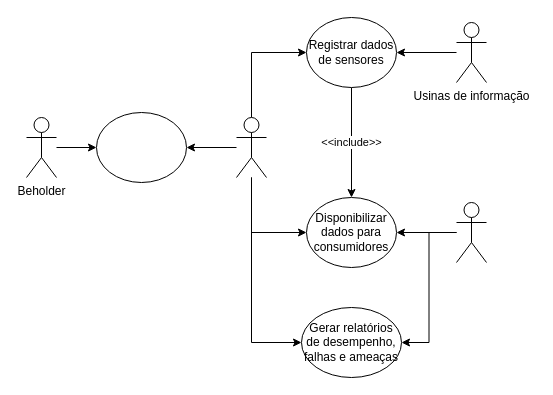
This 553x395 diagram has some shape labels left out. The shapes that lost their labels are listed below. From the top down, each one's centre as x and y in pixels, then its label:
At (x=141, y=147): "Compartilhar dados com o arranjo de máquinas".
At (x=251, y=147): "messageProcessor".
At (x=471, y=232): "Consumidores de dados".
